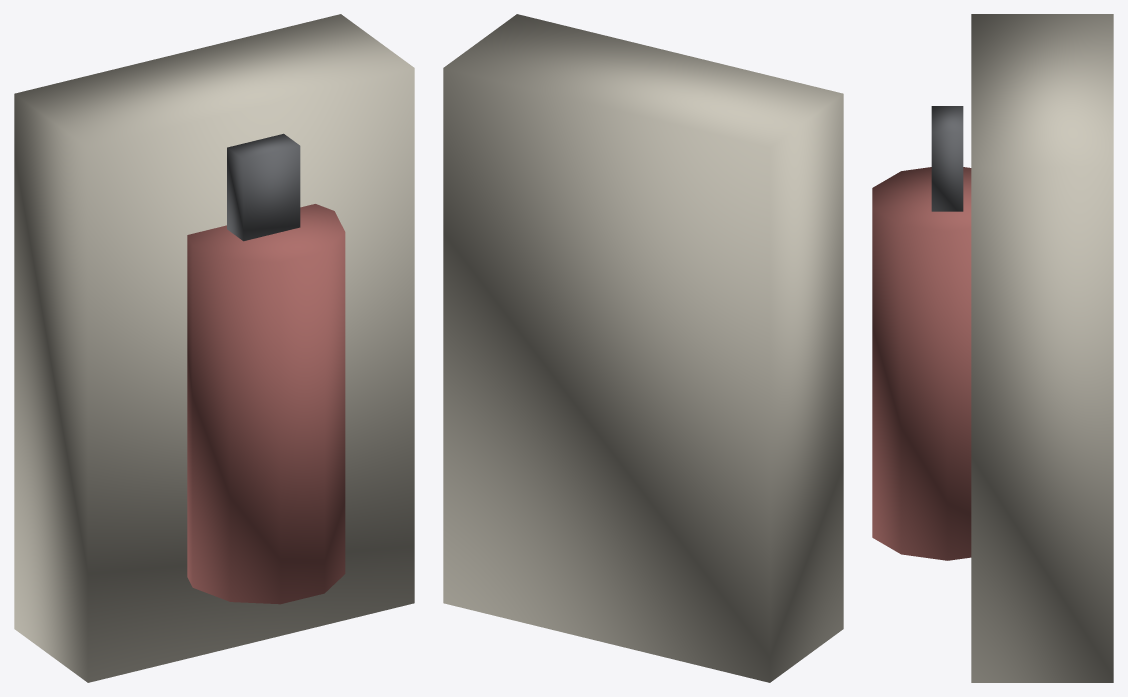
Rendered from extinguisher_cabinet.glb.
The picture shows the model from 3 angles, left to right: view 1: azimuth 30°, elevation 25°; view 2: azimuth 150°, elevation 25°; view 3: azimuth 270°, elevation 25°; orthographic projection. The views are drawn at different scales.
Parts seen in each view (by area): view 1: world; view 2: world; view 3: world.
Boxes of the visible parts, bbox=[...] form: world: bbox=[14, 14, 414, 682]; world: bbox=[443, 14, 843, 682]; world: bbox=[872, 14, 1113, 682].
Size of the model in its own units: 0.46 by 0.72 by 0.3051.
